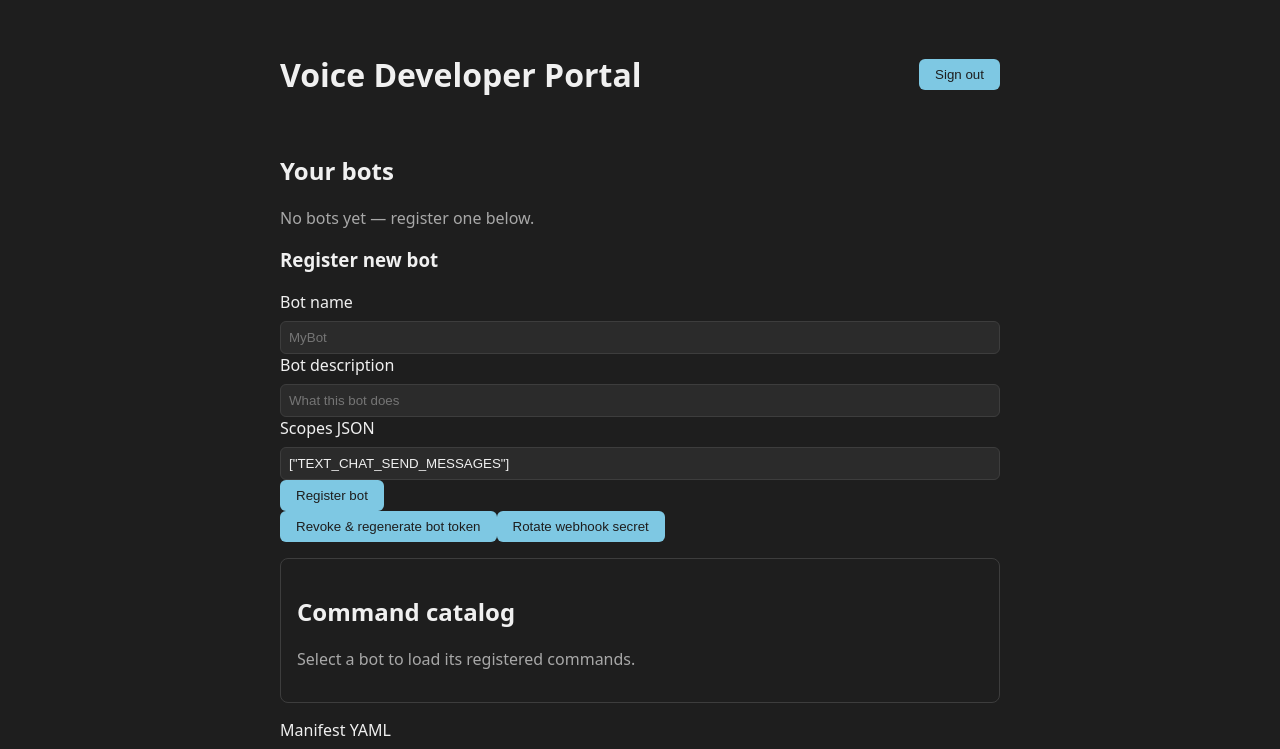
Test: App bot registration and selection › registers bot with form values
Expected: the element with test id "bot-register" is shown, [280,247,1000,511]
Type "Custom Bot" into the field with placeholder "MyBot" at [640, 338], box [280,321,1000,354]
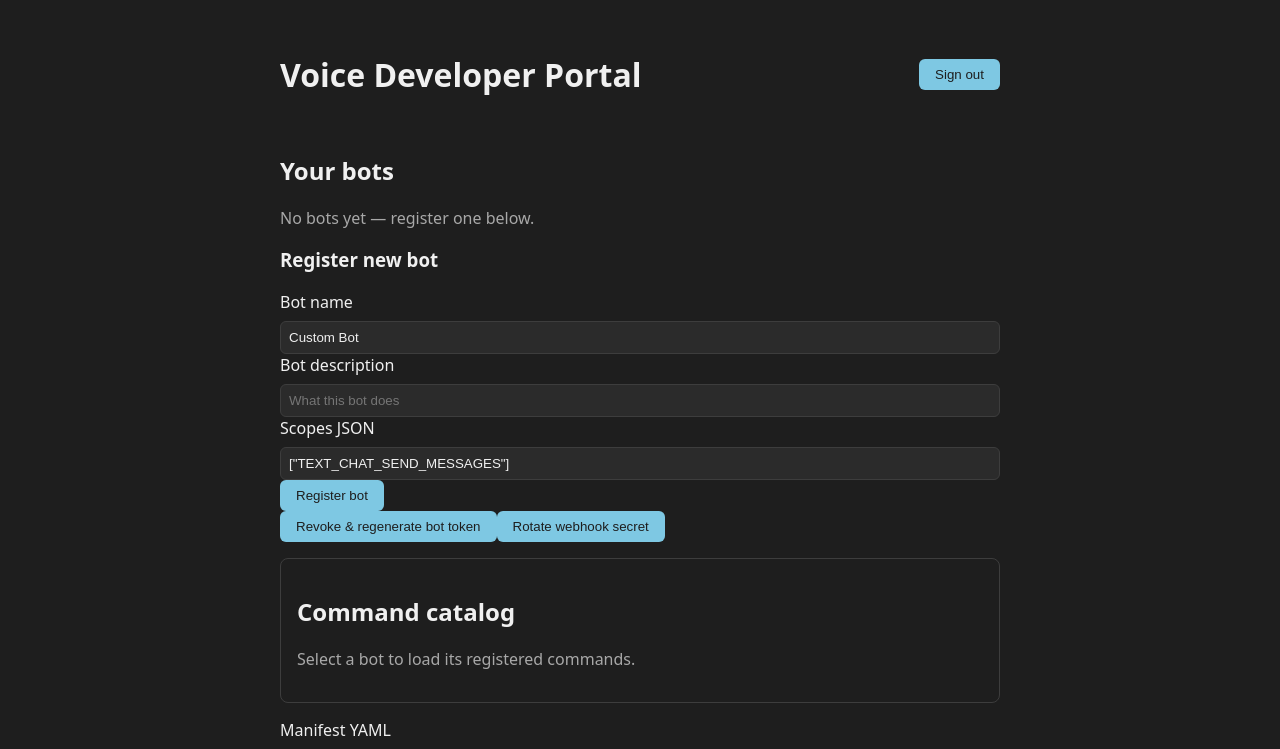
Type "Does things" into the field with placeholder "What this bot does" at [640, 401], box [280,384,1000,417]
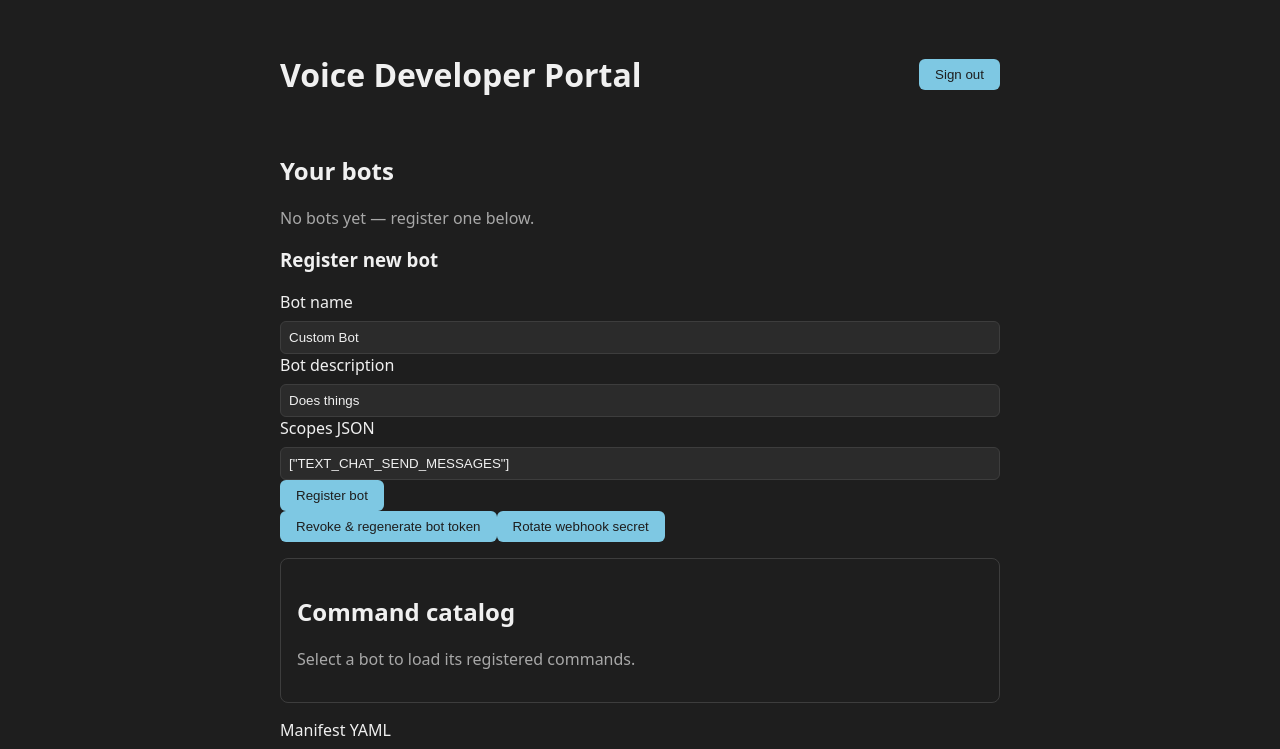
Type "[\"DM_SEND\"]" into the field with placeholder "[" at [640, 464], box [280,447,1000,480]
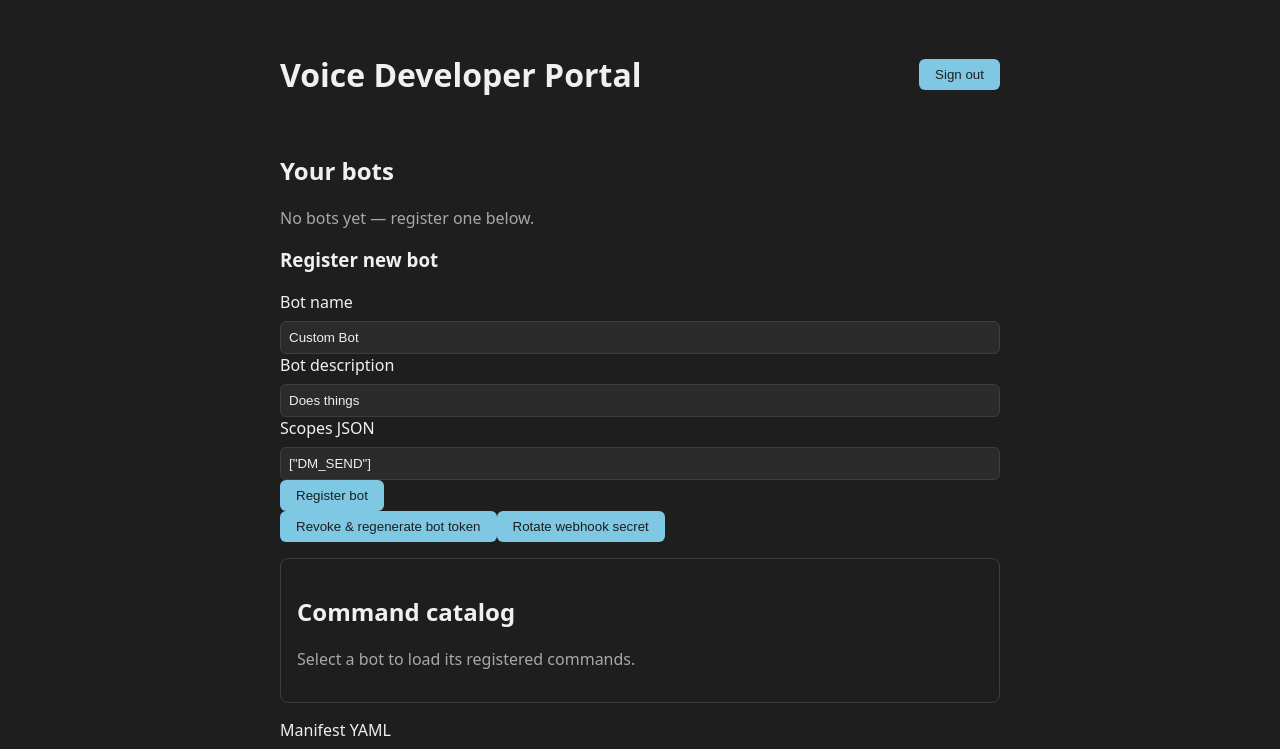
Click the button "Register bot" at [332, 496], box [280,480,384,511]
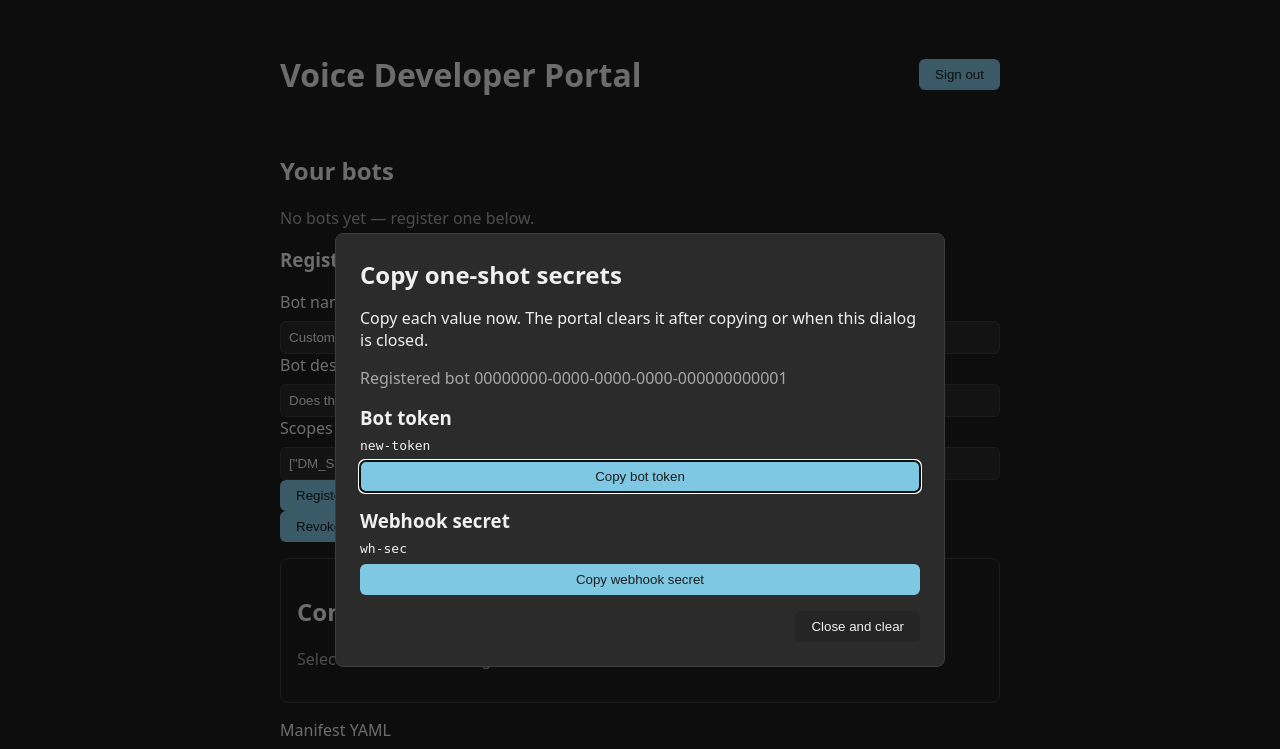
Expected: the text "Registered bot 00000000-0000-0000-0000-000000000001" is shown, [360,367,788,389]
